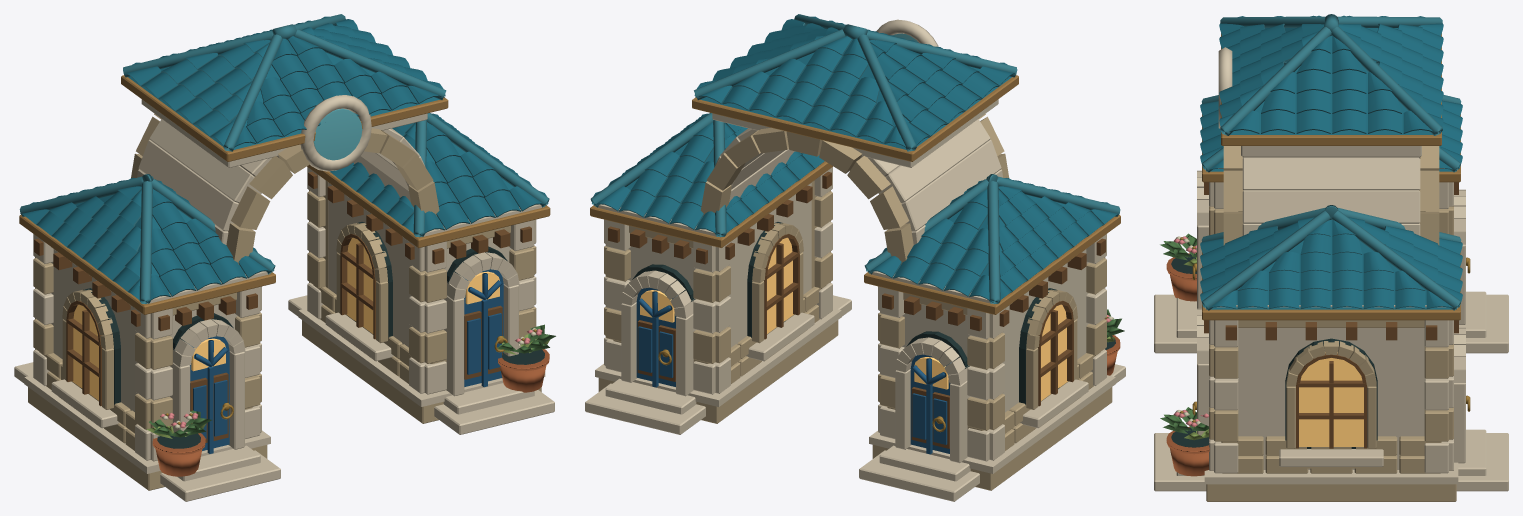
3 views of the same model, side by side, from view 1: azimuth 30°, elevation 25°; view 2: azimuth 150°, elevation 25°; view 3: azimuth 270°, elevation 25° (orthographic). The views are drawn at different scales.
Visible parts, largest first — view 1: harbor_teleport_gate_geometry; view 2: harbor_teleport_gate_geometry; view 3: harbor_teleport_gate_geometry.
Boxes of the visible parts, x1=… form: harbor_teleport_gate_geometry: x1=14, y1=14, x2=555, y2=501; harbor_teleport_gate_geometry: x1=585, y1=14, x2=1125, y2=501; harbor_teleport_gate_geometry: x1=1154, y1=14, x2=1508, y2=501.
Bounding box in the file's own units: 1.04 × 0.8873 × 0.7418.
